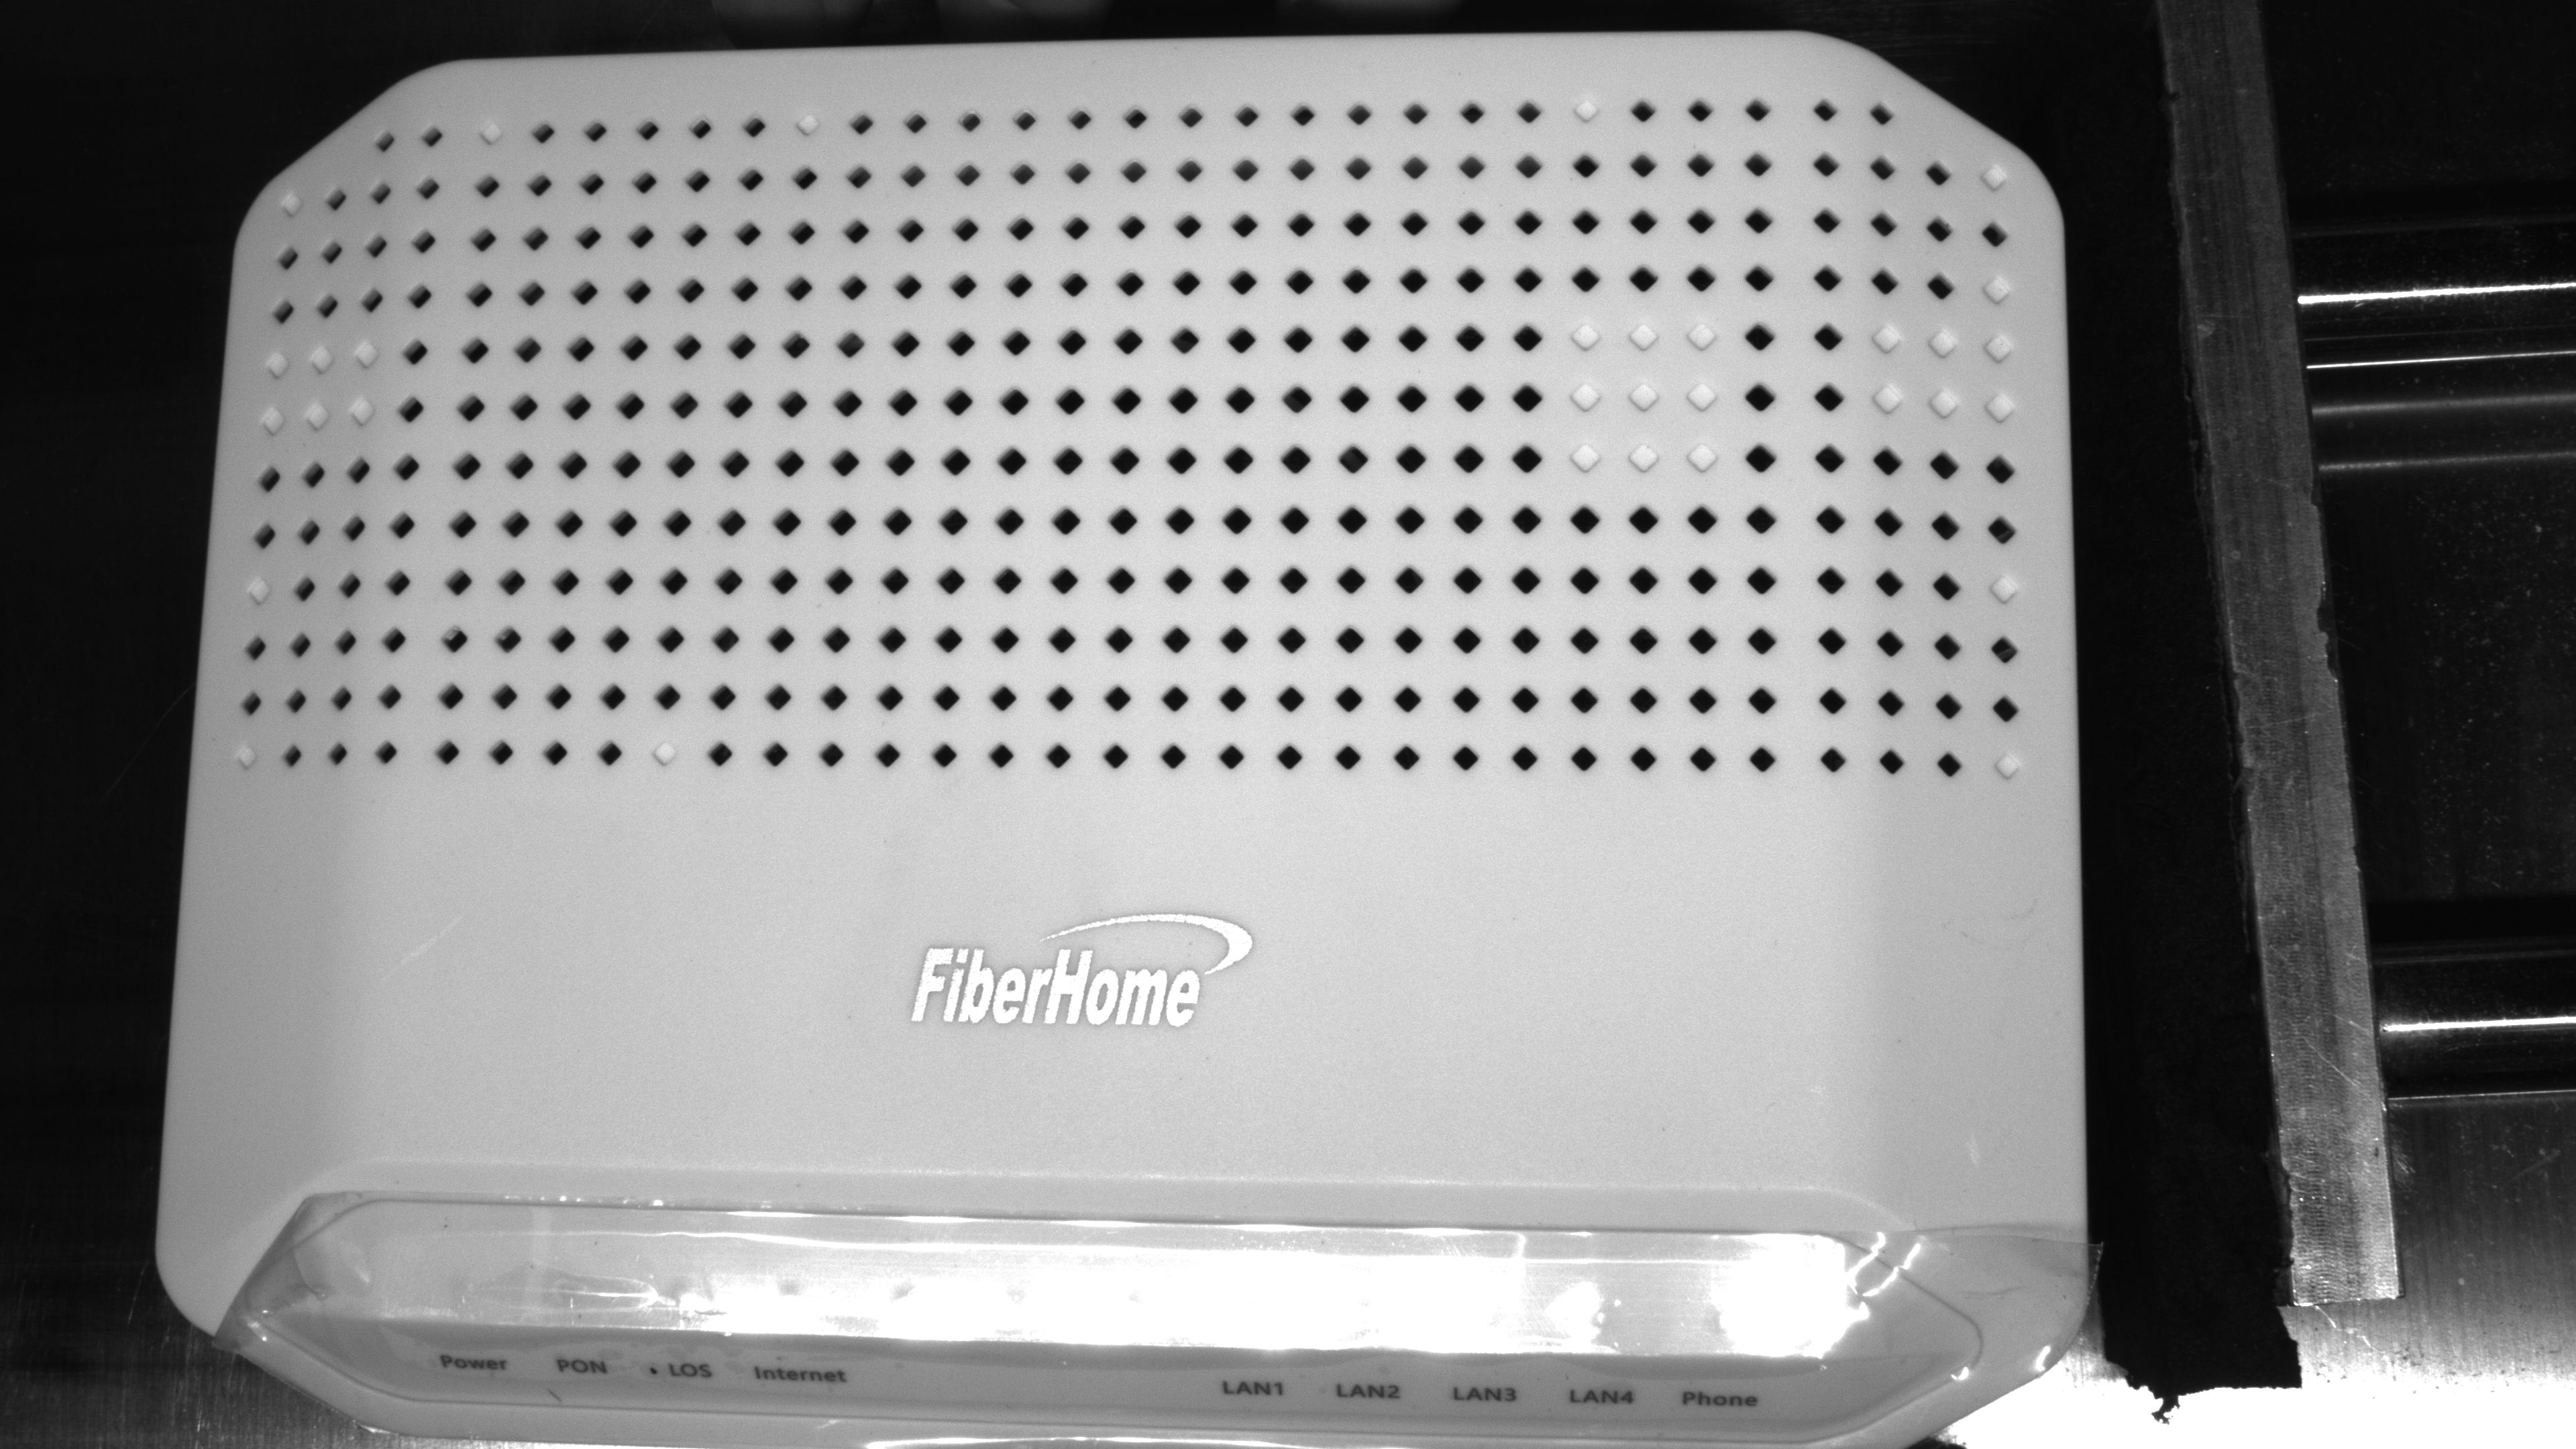AI_FiberHome: (874, 874, 1307, 1079)
